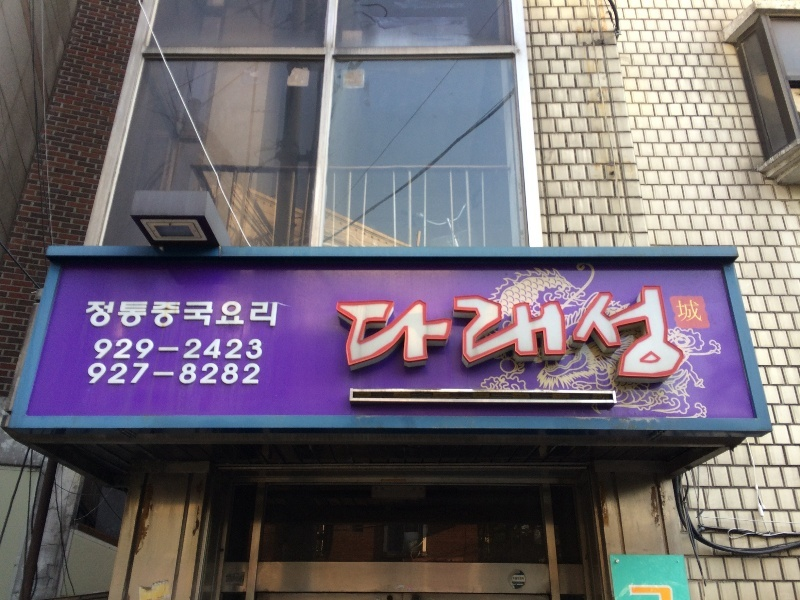text: (337, 283, 352, 382), (353, 283, 368, 382), (369, 283, 384, 382), (385, 283, 400, 382), (401, 283, 416, 382), (417, 283, 432, 382), (433, 283, 448, 382), (449, 283, 464, 382), (465, 283, 480, 382), (481, 283, 496, 382), (497, 283, 512, 382), (513, 283, 528, 382), (529, 283, 544, 382), (545, 283, 560, 382), (561, 283, 576, 382), (577, 283, 592, 382), (593, 283, 608, 382), (609, 283, 624, 382), (625, 283, 640, 382), (641, 283, 656, 382), (657, 283, 672, 382), (673, 283, 688, 382), (97, 299, 112, 330), (113, 299, 128, 330), (129, 299, 144, 330), (145, 299, 160, 330), (161, 299, 176, 330), (177, 299, 192, 330), (193, 299, 208, 330), (209, 299, 224, 330), (225, 299, 240, 330), (241, 299, 256, 330), (257, 299, 272, 330), (97, 361, 112, 388), (113, 361, 128, 388), (129, 361, 144, 388), (145, 361, 160, 388), (161, 361, 176, 388), (177, 361, 192, 388), (193, 361, 208, 388), (209, 361, 224, 388), (225, 361, 240, 388), (241, 361, 256, 388), (97, 337, 112, 362), (113, 337, 128, 362), (129, 337, 144, 362), (145, 337, 160, 362), (161, 337, 176, 362), (177, 337, 192, 362), (193, 337, 208, 362), (209, 337, 224, 362), (225, 337, 240, 362), (241, 337, 256, 362), (86, 299, 96, 330), (689, 300, 703, 322), (675, 300, 688, 322), (257, 337, 266, 362), (273, 299, 280, 330), (89, 361, 96, 388), (257, 361, 264, 388), (689, 283, 690, 382)
